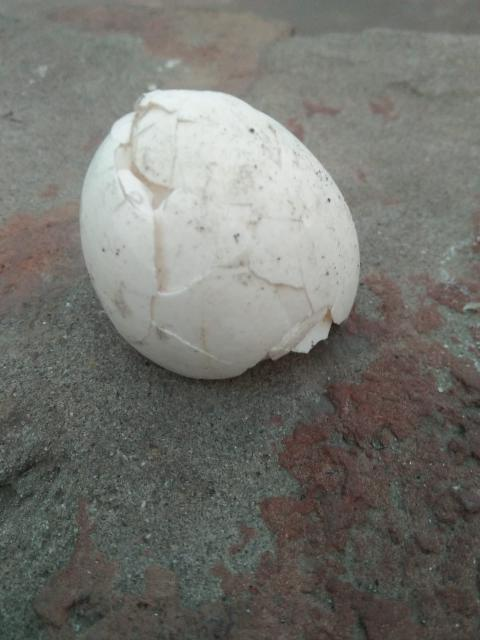Roto: (78, 87, 361, 381)
